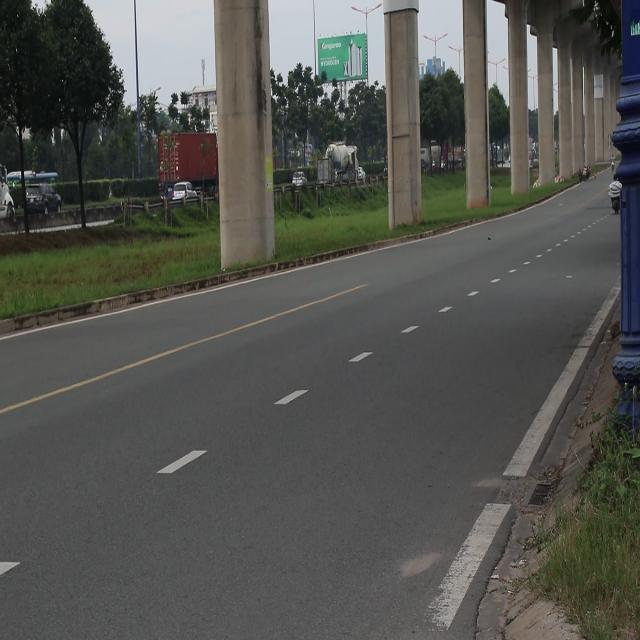car: (10, 176, 63, 218), (168, 182, 200, 202), (293, 171, 307, 186)
motorbike: (608, 194, 620, 221)
truck: (153, 106, 222, 192), (317, 148, 336, 188)
